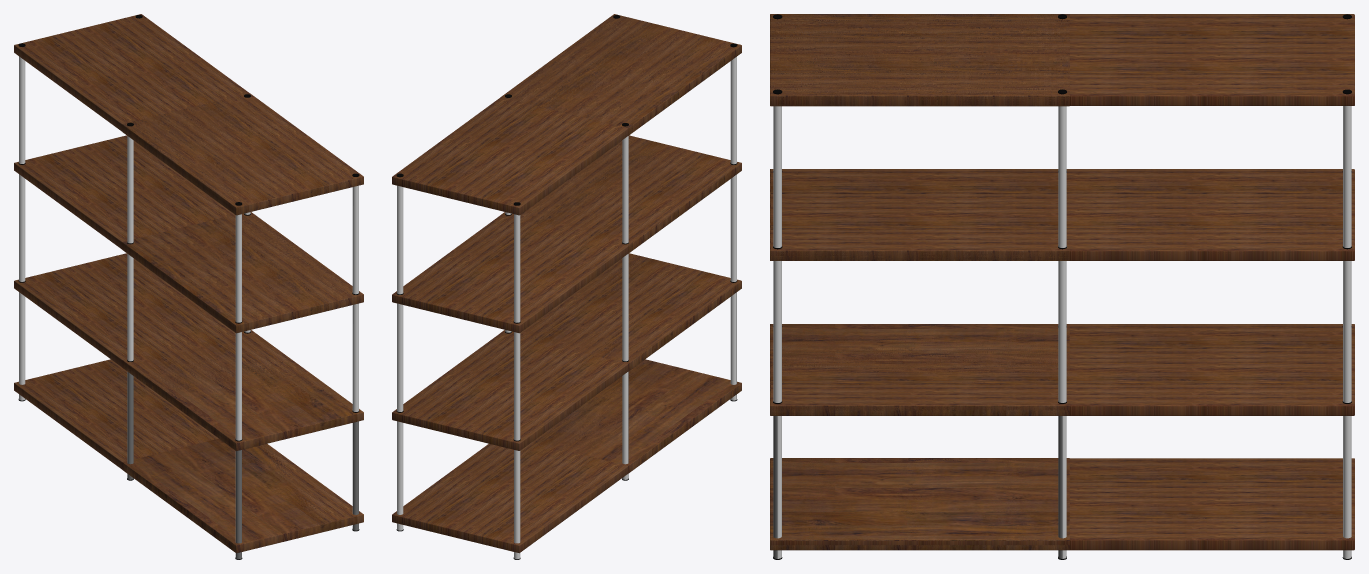
The model's file is rack-colores.glb.
3 views of the same model, side by side, from view 1: azimuth 30°, elevation 25°; view 2: azimuth 150°, elevation 25°; view 3: azimuth 270°, elevation 25° (orthographic). The views are drawn at different scales.
Parts seen in each view (by area): view 1: Plane.006, Plane.004, Plane.005, Plane.003, Plane, Plane.002, Plane.001, Plane.008, Cylinder.009, Cylinder.003, Cylinder, Cylinder.001 (+2 smaller); view 2: Plane.006, Plane.004, Plane.005, Plane.002, Plane.008, Plane, Plane.003, Plane.001, Cylinder.008, Cylinder.001, Cylinder.005; view 3: Plane.005, Plane.006, Plane.004, Plane.002, Plane, Plane.008, Plane.001, Plane.003, Cylinder.001, Cylinder.008, Cylinder.005, Cylinder.003 (+2 smaller).
Part boxes in pixels (<box>): Plane.006: <box>14,14,362,214</box>; Plane.004: <box>14,253,350,449</box>; Plane.005: <box>14,135,362,332</box>; Plane.003: <box>122,212,363,333</box>; Plane: <box>122,438,363,553</box>; Plane.002: <box>14,359,362,547</box>; Plane.001: <box>122,330,363,450</box>; Plane.008: <box>122,93,363,215</box>; Cylinder.009: <box>127,136,358,322</box>; Cylinder.003: <box>127,254,358,440</box>; Cylinder: <box>127,372,358,559</box>; Cylinder.001: <box>19,174,352,439</box>; Plane.006: <box>392,14,740,215</box>; Plane.004: <box>392,253,740,450</box>; Plane.005: <box>392,136,740,333</box>; Plane.002: <box>392,360,739,553</box>; Plane.008: <box>501,14,741,135</box>; Plane: <box>533,359,741,473</box>; Plane.003: <box>501,135,741,253</box>; Plane.001: <box>501,253,741,371</box>; Cylinder.008: <box>397,57,736,322</box>; Cylinder.001: <box>397,175,736,440</box>; Cylinder.005: <box>397,292,736,559</box>; Plane.005: <box>771,169,1354,260</box>; Plane.006: <box>771,14,1354,105</box>; Plane.004: <box>771,324,1354,415</box>; Plane.002: <box>771,458,1354,550</box>; Plane: <box>770,458,1069,550</box>; Plane.008: <box>770,14,1069,106</box>; Plane.001: <box>770,324,1069,415</box>; Plane.003: <box>770,169,1069,260</box>; Cylinder.001: <box>777,261,1351,402</box>; Cylinder.008: <box>777,106,1351,247</box>; Cylinder.005: <box>777,416,1351,558</box>; Cylinder.003: <box>773,261,1062,402</box>.
Bounding box in the file's own units: 0.3406 × 0.9035 × 1.03.
Materials: 19 (6 with a texture image).
